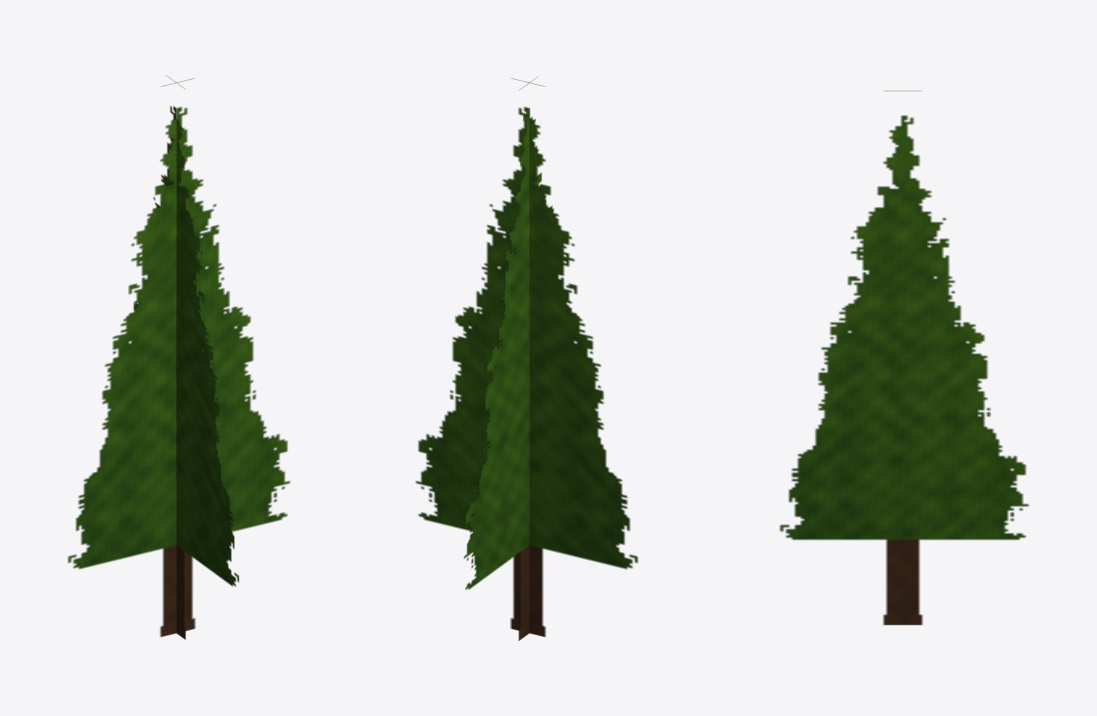
The model's file is tree_impostor.glb.
3 renders of one model, left to right at view 1: azimuth 30°, elevation 25°; view 2: azimuth 150°, elevation 25°; view 3: azimuth 270°, elevation 25°, orthographic. The views are drawn at different scales.
Visible parts, largest first — view 1: Impostor_Tree; view 2: Impostor_Tree; view 3: Impostor_Tree.
Boxes of the visible parts, x1,y1,x2,y2 form: Impostor_Tree: [67, 75, 290, 639]; Impostor_Tree: [415, 77, 638, 640]; Impostor_Tree: [779, 115, 1028, 625].
Size of the model in its own units: 1.6 by 2.6 by 1.6.
Materials: 1 (1 with a texture image).
